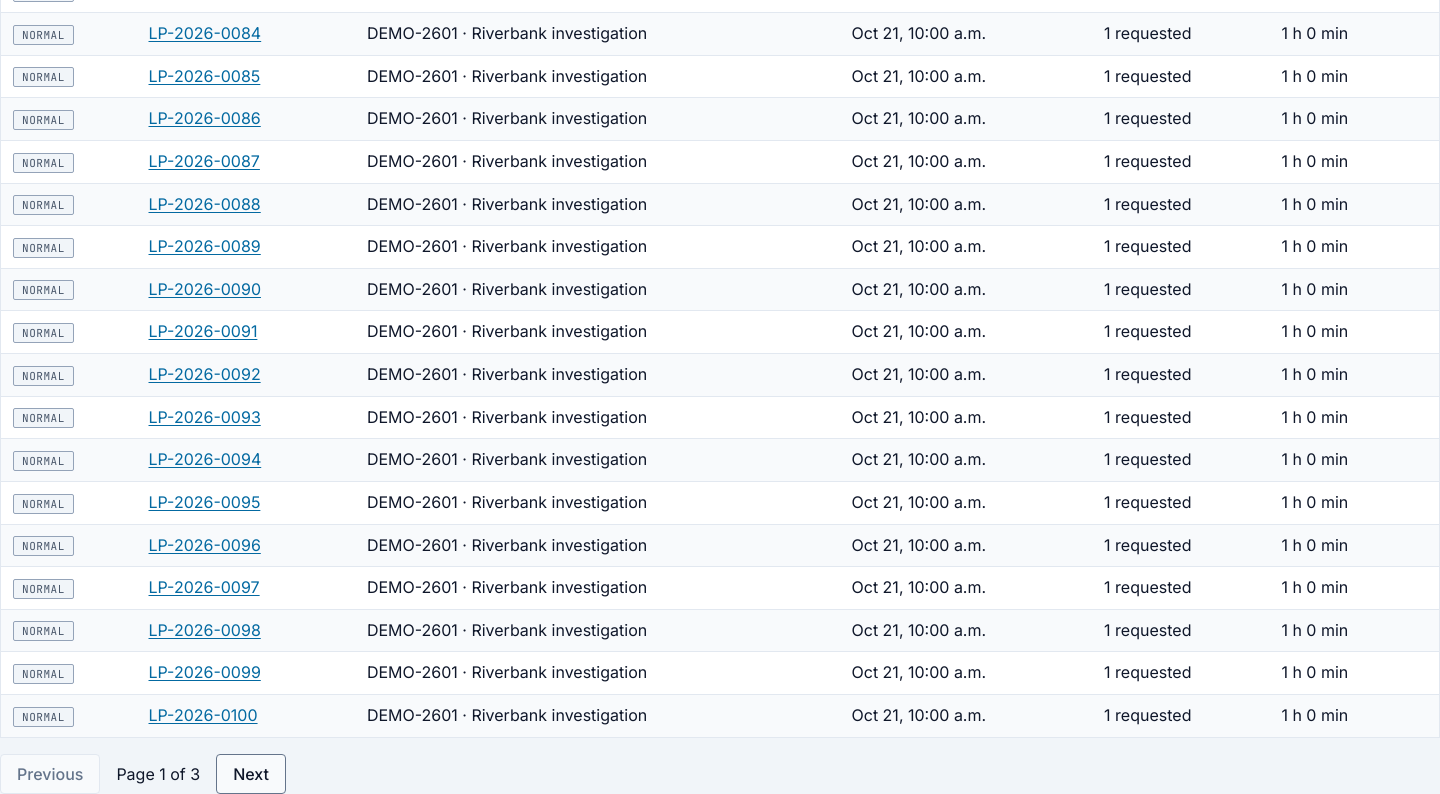
Lab Testing → Worklist while a page is loading › a filter change while a page loads starts at page 1, and the late page answer is ignored
(page scrolled)
Click the button "Next" at point(251, 774), box left=216, top=754, right=286, bottom=793
(page scrolled)
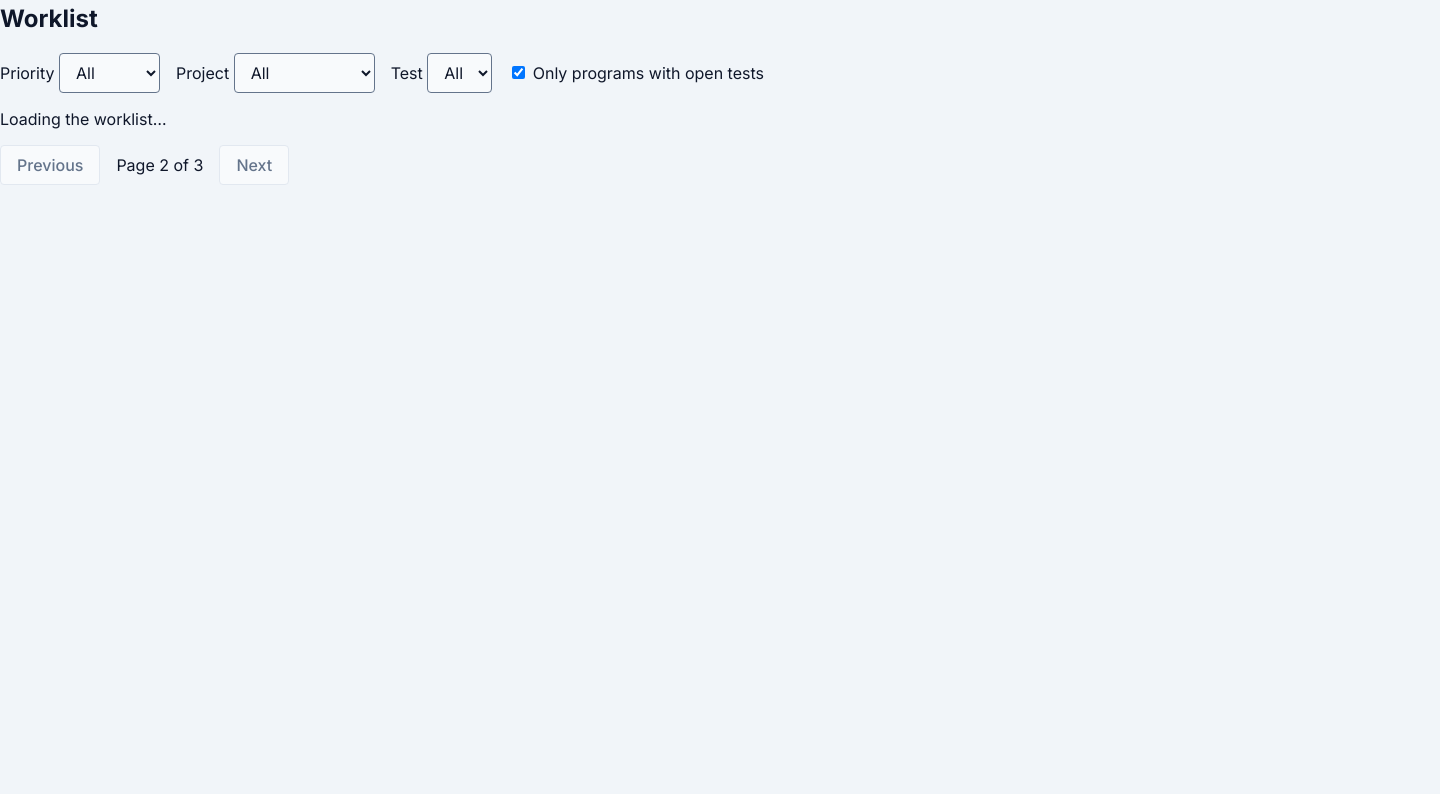
Select "Urgent" in the dropdown labelled "Priority" at point(110, 73), box left=59, top=53, right=160, bottom=93
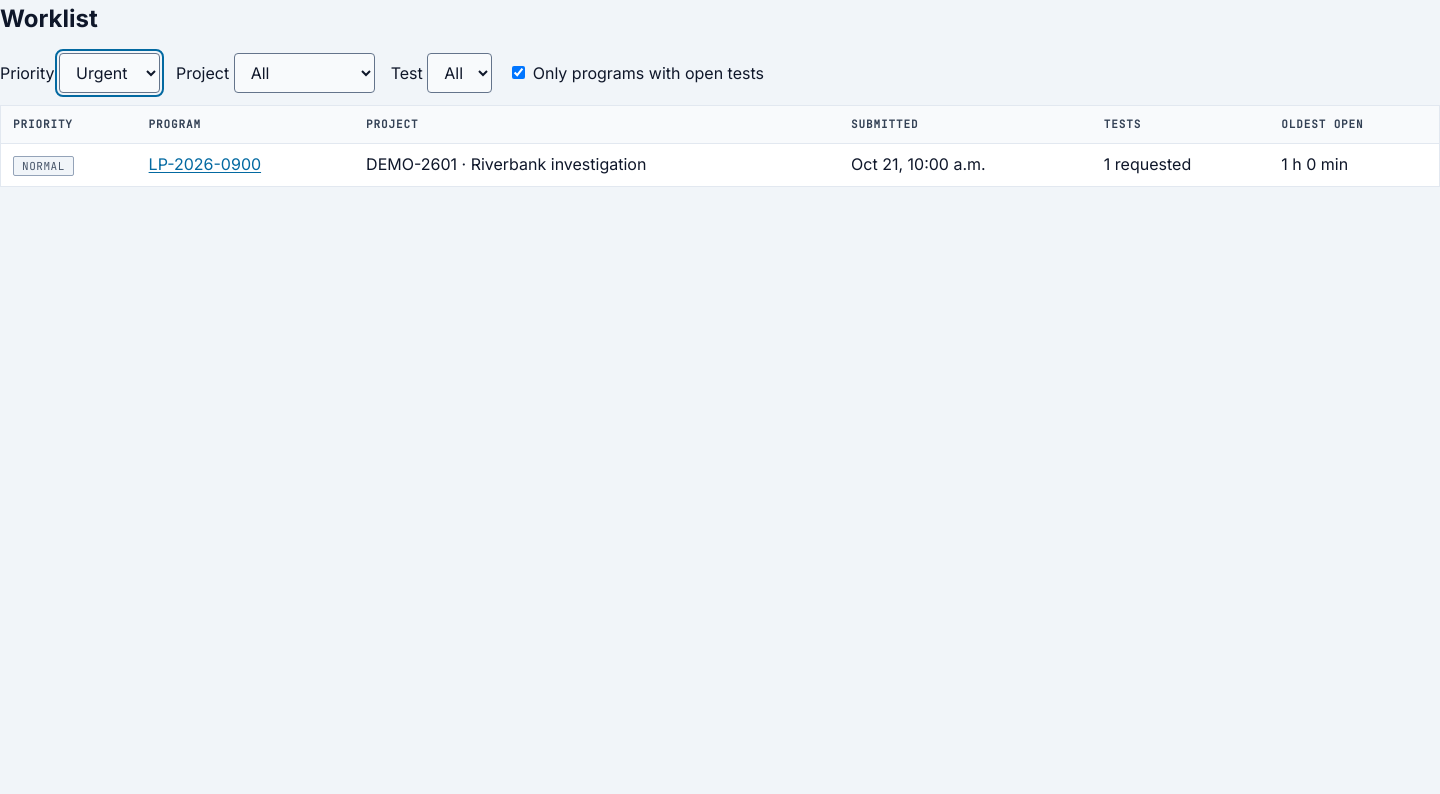
Result: the link "LP-2026-0900" is shown at left=149, top=154, right=261, bottom=174
Result: the navigation bar "Pages" is gone
